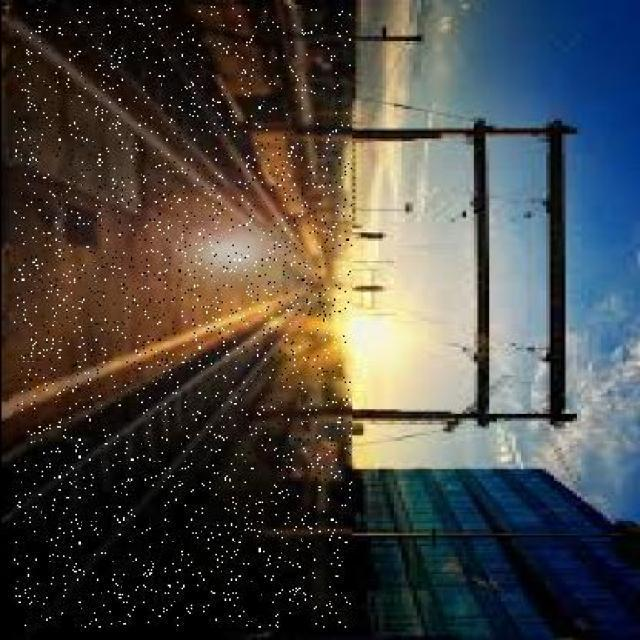rail: (12, 6, 349, 628)
